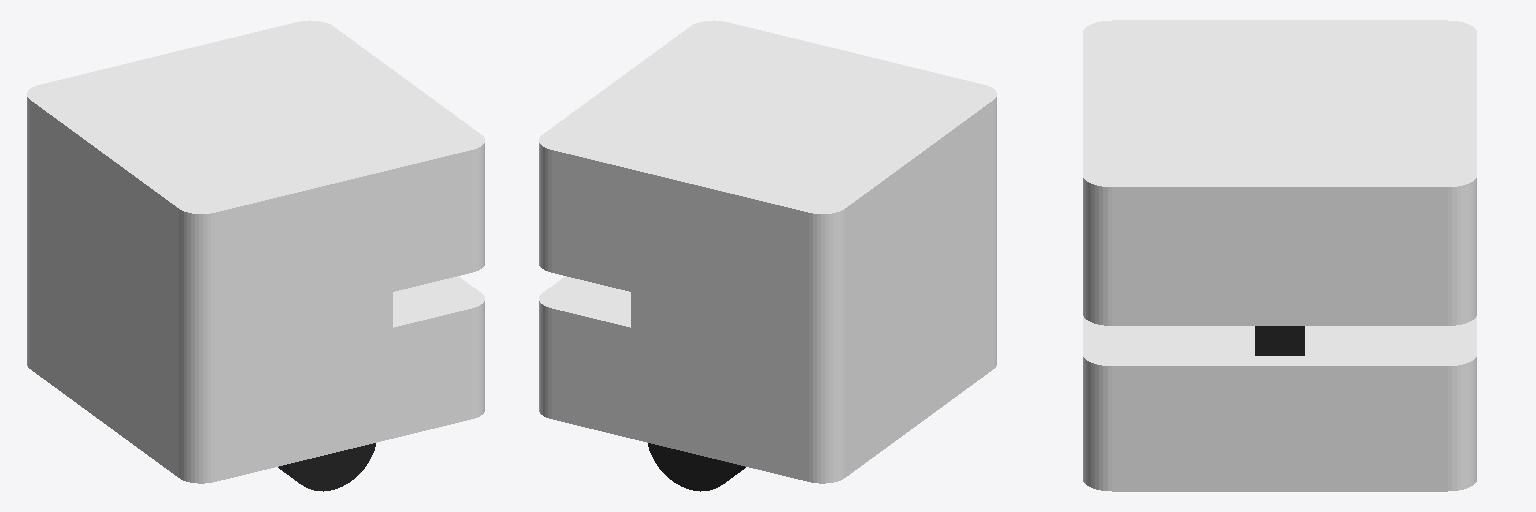
URDF robot description (mobile_platform):
<?xml version="1.0" ?>
<robot name="mobile_platform" xmlns:controller="http://playerstage.sourceforge.net/gazebo/xmlschema/#controller" xmlns:interface="http://playerstage.sourceforge.net/gazebo/xmlschema/#interface" xmlns:sensor="http://playerstage.sourceforge.net/gazebo/xmlschema/#sensor" xmlns:xacro="http://ros.org/wiki/xacro">
    <material name="Black">
        <color rgba="0.2 0.2 0.2 1.0"/>
    </material>
    <material name="White">
        <color rgba="1.0 1.0 1.0 1.0"/>
    </material>
    <material name="DarkGrey">
        <color rgba="0.3 0.3 0.3 1.0"/>
    </material>

    <link name="base_platform">
        <inertial>
            <origin rpy="0 0 0" xyz="0 0 0"/>
            <mass value="36"/>
            <inertia ixx="8.268e-3" ixy="0" ixz="0" iyy="8.268e-3" iyz="0" izz="9.6e-3"/>
        </inertial>
        <visual>
            <material name="White"/>
            <origin rpy="0 0 0" xyz="-0.2 -0.2 0"/>
            <geometry>
                <mesh filename="package://platform_description/meshes/platform.STL" scale="0.001 0.001 0.001"/>
            </geometry>
        </visual>
        <collision>
            <origin rpy="0 0 0" xyz="-0.2 -0.2 0"/>
            <geometry>
              <mesh filename="package://platform_description/meshes/platform.STL" scale="0.001 0.001 0.001"/>
            </geometry>
        </collision>
    </link>

    <link name="base_left_wheel_link">
        <inertial>
            <origin xyz="0 0 0"/>
            <mass value="2"/>
            <inertia ixx="4.82e-4" ixy="0" ixz="0" iyy="4.82e-4" iyz="0" izz="4.82e-4"/>
        </inertial>
        <visual>
            <origin rpy="0 0 0" xyz="0 0 0"/>
            <geometry>
                <cylinder length="0.05" radius="0.06"/>
            </geometry>
            <material name="Black"/>
        </visual>
        <collision>
            <origin rpy="0 0 0" xyz="0 0 0"/>
            <geometry>
                <cylinder length="0.05" radius="0.06"/>
            </geometry>
        </collision>
    </link>
    <joint name="left_wheel_joint" type="continuous">
        <origin rpy="-1.5707963 0 0" xyz="0 0.15 0"/>
        <parent link="base_platform"/>
        <child link="base_left_wheel_link"/>
        <axis xyz="0 0 1"/>
        <limit effort="100" velocity="100"/>
    </joint>

    <link name="base_right_wheel_link">
        <inertial>
            <origin xyz="0 0 0"/>
            <mass value="2"/>
            <inertia ixx="4.82e-4" ixy="0" ixz="0" iyy="4.82e-4" iyz="0" izz="4.82e-4"/>
        </inertial>
        <visual>
            <origin rpy="0 0 0" xyz="0 0 0"/>
            <geometry>
                <cylinder length="0.05" radius="0.06"/>
            </geometry>
            <material name="Black"/>
        </visual>
        <collision>
            <origin rpy="0 0 0" xyz="0 0 0"/>
            <geometry>
                <cylinder length="0.05" radius="0.06"/>
            </geometry>
        </collision>
    </link>
    <joint name="right_wheel_joint" type="continuous">
        <origin rpy="-1.5707963 0 0" xyz="0 -0.15 0"/>
        <parent link="base_platform"/>
        <child link="base_right_wheel_link"/>
        <axis xyz="0 0 1"/>
        <limit effort="100" velocity="100"/>
    </joint>

    <link name="base_front_wheel_link">
        <collision>
            <origin rpy="0 0 0" xyz="0 0 0"/>
            <geometry>
                <sphere radius="0.03"/>
            </geometry>
        </collision>
    </link>
    <joint name="front_wheel" type="fixed">
        <origin rpy="0 0 0" xyz="0.15 0 -0.025"/>
        <parent link="base_platform"/>
        <child link="base_front_wheel_link"/>
    </joint>

    <link name="base_back_wheel_link">
        <collision>
            <origin rpy="0 0 0" xyz="0 0 0"/>
            <geometry>
                <sphere radius="0.03"/>
            </geometry>
        </collision>
    </link>
    <joint name="back_wheel" type="fixed">
        <origin rpy="0 0 0" xyz="-0.15 0 -0.025"/>
        <parent link="base_platform"/>
        <child link="base_back_wheel_link"/>
    </joint>

   <link name="laser">
        <visual>
            <origin rpy="0 0 0" xyz="0 0 0"/>
            <geometry>
                <box size="0.05 0.05 0.05"/>
            </geometry>
            <material name="Black"/>
        </visual>
    </link>
    <joint name="top_t_laser" type="fixed">
        <origin rpy="0 0 0" xyz="0.15 0 0.16"/>
        <parent link="base_platform"/>
        <child link="laser"/>
    </joint>

</robot>

--- Render facts (derived) ---
The picture shows the robot from 3 angles, left to right: view 1: azimuth 30°, elevation 25°; view 2: azimuth 150°, elevation 25°; view 3: azimuth 270°, elevation 25°; orthographic projection.
Robot: mobile_platform — 6 links, 5 joints (2 continuous, 3 fixed); root link base_platform; default pose: every joint at zero.
Visible links, largest first — view 1: base_platform, base_right_wheel_link; view 2: base_platform, base_left_wheel_link; view 3: base_platform, laser.
Link boxes in pixels (x1=…): base_platform: x1=27, y1=20, x2=484, y2=483; base_right_wheel_link: x1=278, y1=443, x2=375, y2=491; base_platform: x1=539, y1=20, x2=996, y2=483; base_left_wheel_link: x1=648, y1=443, x2=745, y2=491; base_platform: x1=1083, y1=20, x2=1476, y2=491; laser: x1=1255, y1=326, x2=1304, y2=355.
Size in the robot's own frame: 0.4 by 0.4 by 0.4 metres.
1 mesh visuals loaded from 1 distinct referenced files (1 binary STL).